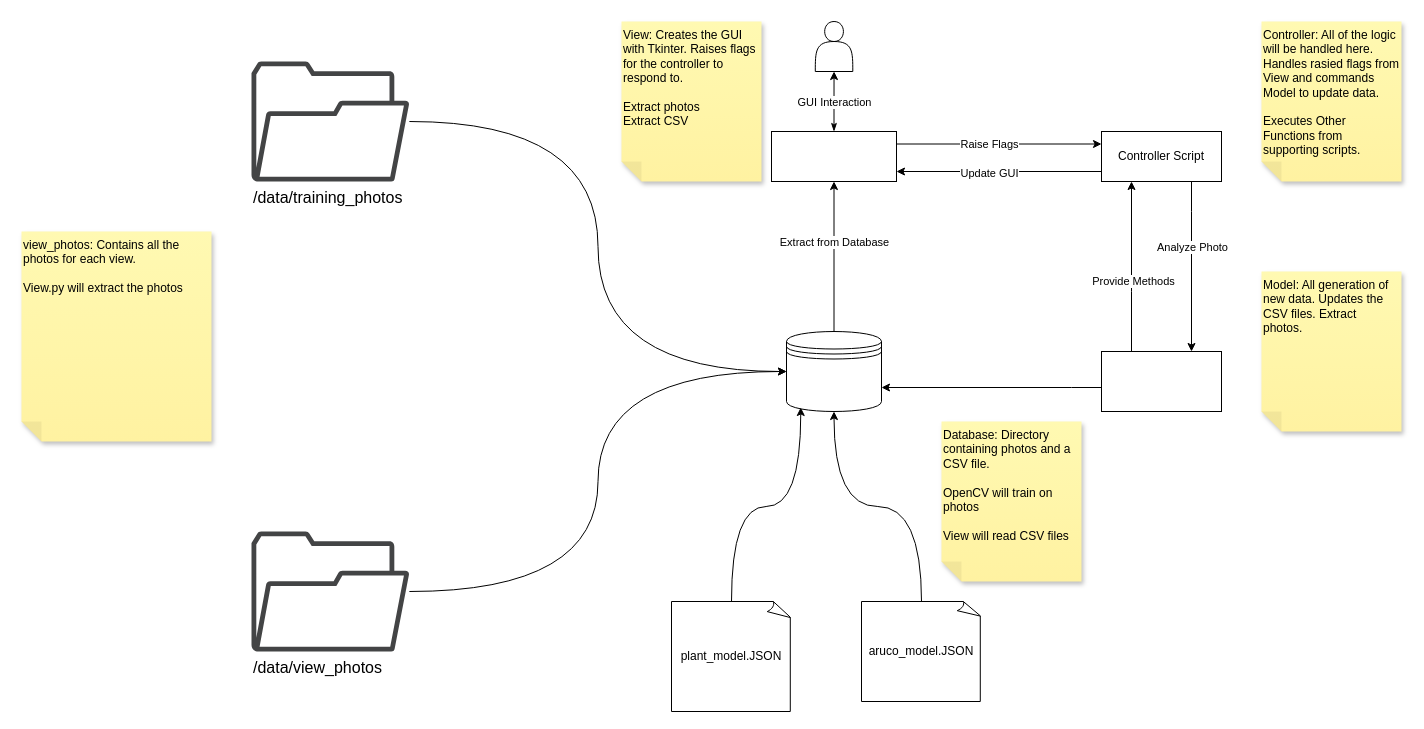
The diagram is 1424 pixels wide and 729 high, and some of its shapes have lost their labels. The centre of each missing label's shape, as x and y in pixels:
"Model Scripts" goes at (1161,381).
"Pictures CSV" goes at (834,371).
"View Script" goes at (833,156).
